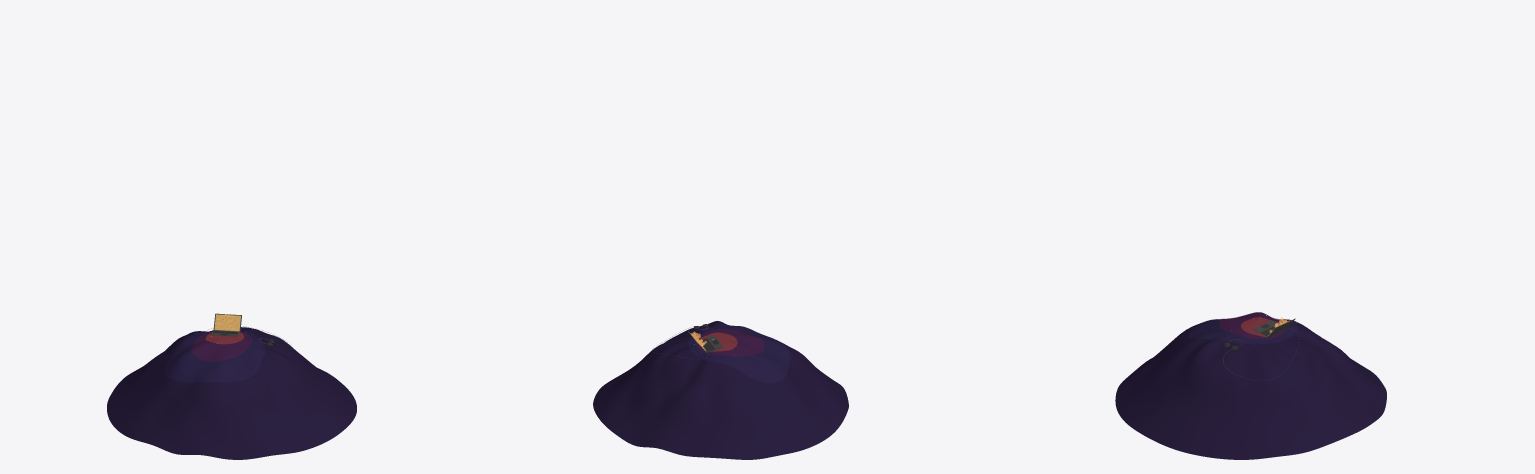
File: holo.7da73f0b.gltf
3 views of the same model, side by side, from view 1: azimuth 30°, elevation 25°; view 2: azimuth 150°, elevation 25°; view 3: azimuth 270°, elevation 25° (orthographic). The views are drawn at different scales.
Parts seen in each view (by area): view 1: Sphere.002, Plane.001, Plane.002, Plane; view 2: Sphere.002, Plane.001, Plane.002; view 3: Sphere.002, Plane.001, Plane.002.
Boxes of the visible parts, left/top/right/bottom form: Sphere.002: left=107, top=327, right=356, bottom=459; Plane.001: left=165, top=331, right=264, bottom=382; Plane.002: left=191, top=332, right=251, bottom=361; Plane: left=210, top=313, right=241, bottom=336; Sphere.002: left=593, top=321, right=848, bottom=459; Plane.001: left=688, top=324, right=788, bottom=382; Plane.002: left=695, top=329, right=763, bottom=356; Sphere.002: left=1115, top=312, right=1386, bottom=459; Plane.001: left=1189, top=313, right=1297, bottom=343; Plane.002: left=1219, top=312, right=1284, bottom=338.
Size of what is drawn, in the model's own units: 18.7 by 15.25 by 18.93.
